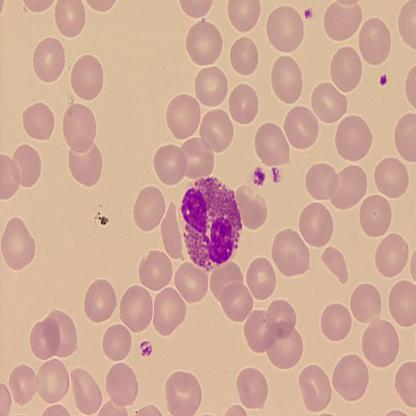Eosinophil: (179, 175, 242, 274)
